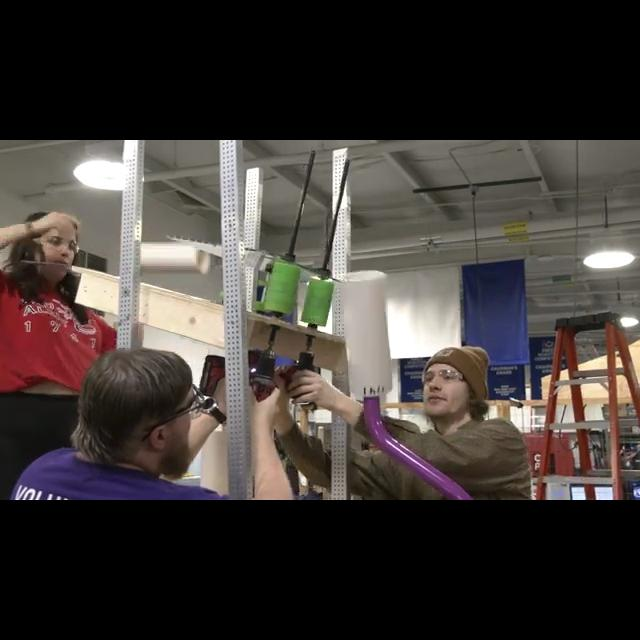CORAL: (340, 272, 392, 396), (141, 242, 209, 276)
